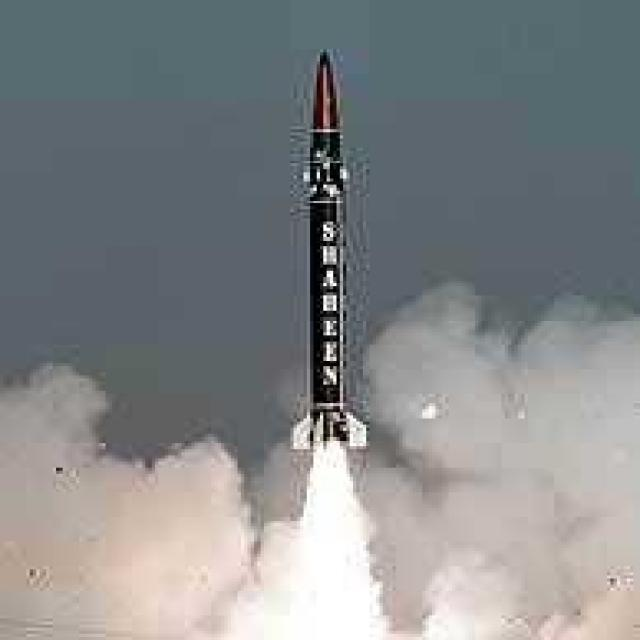missile: (289, 46, 377, 451)
